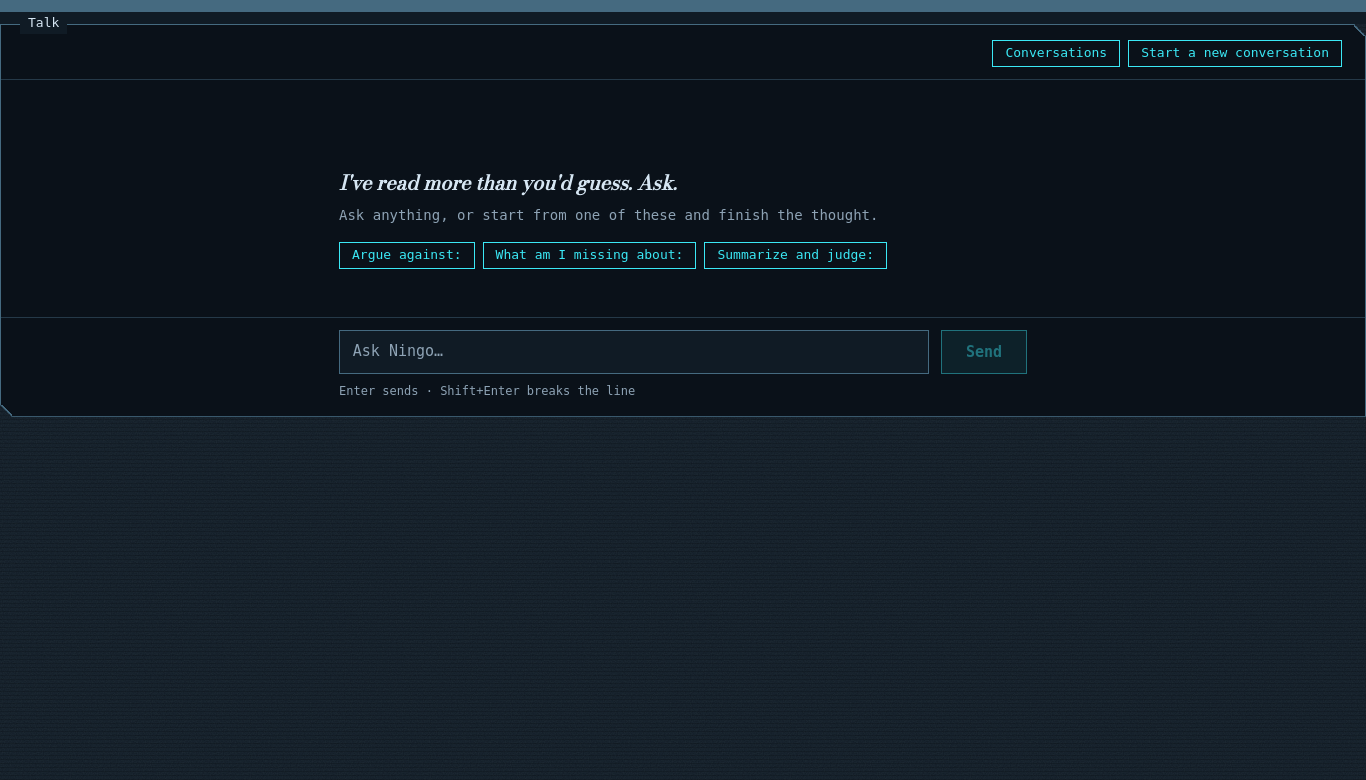
it: the conversation › gives the message back unsent when the history is unavailable, and answers nothing unkept
In the text box named "Your message": (634, 352) [339,330,929,374], type "keep this"
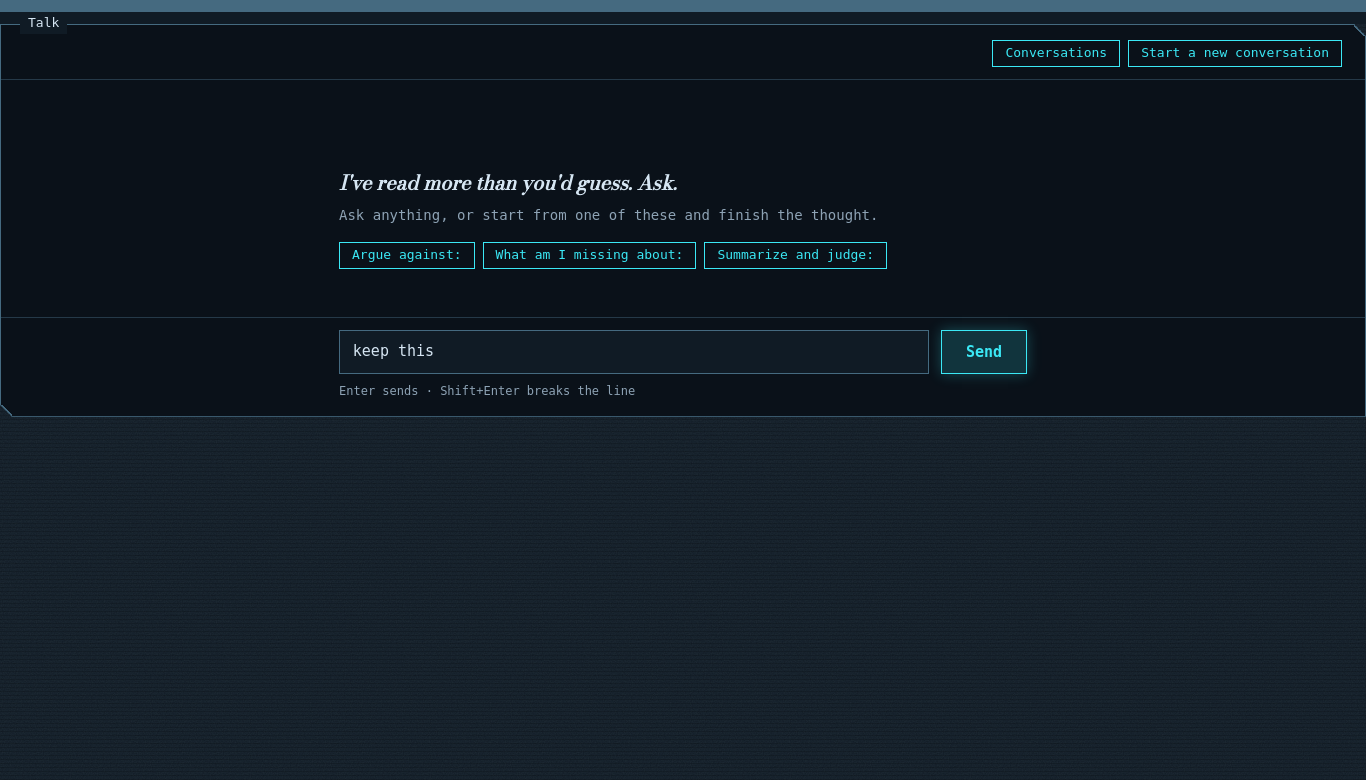
Press Enter in the text box named "Your message", box [339,330,929,374]
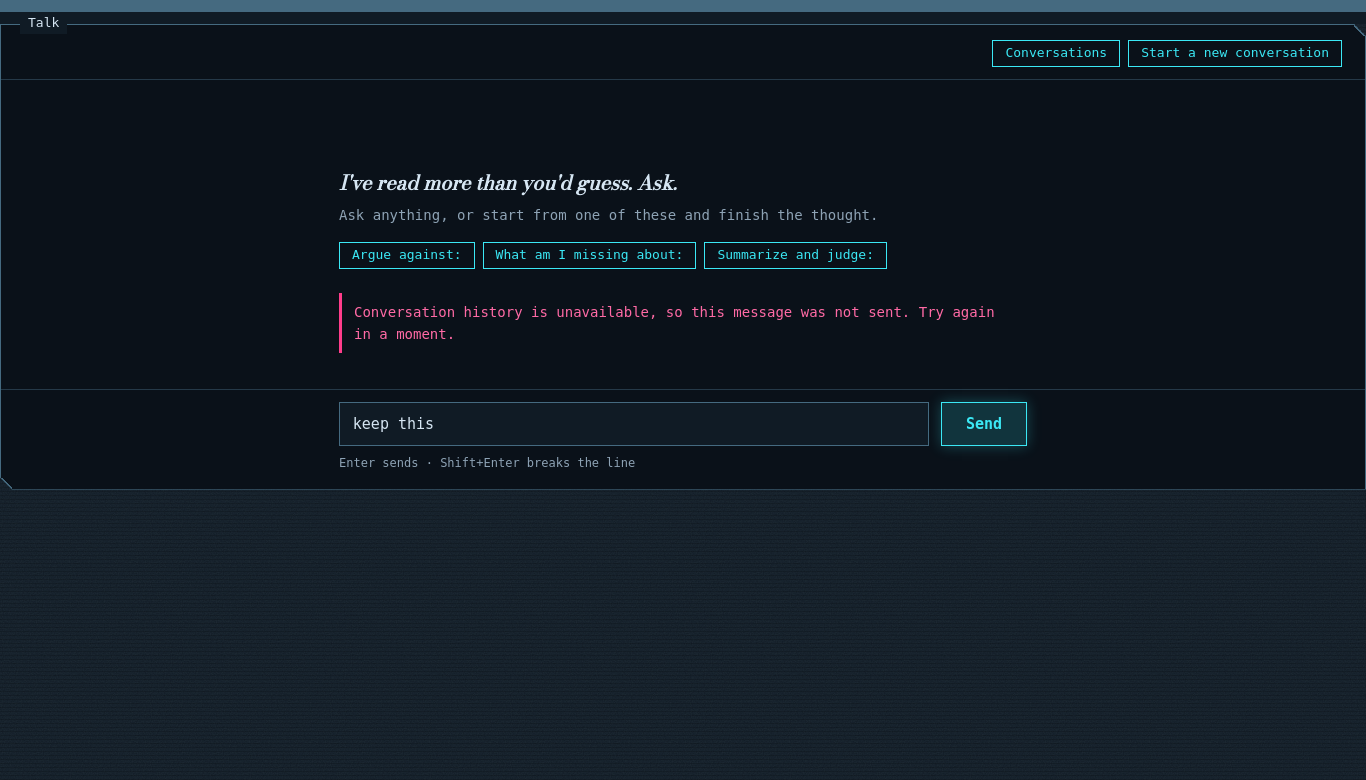
Expected: the text "Conversation history is unavailable" is shown, [354,304,995,342]
